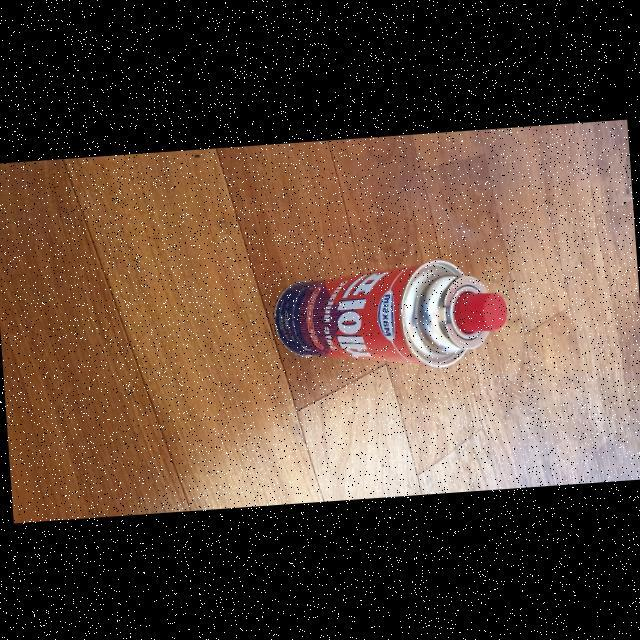chemical_spray_can: (258, 244, 524, 384)
